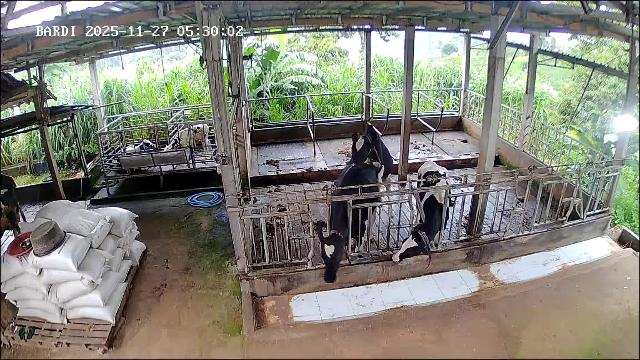mounting: (347, 125, 394, 221)
